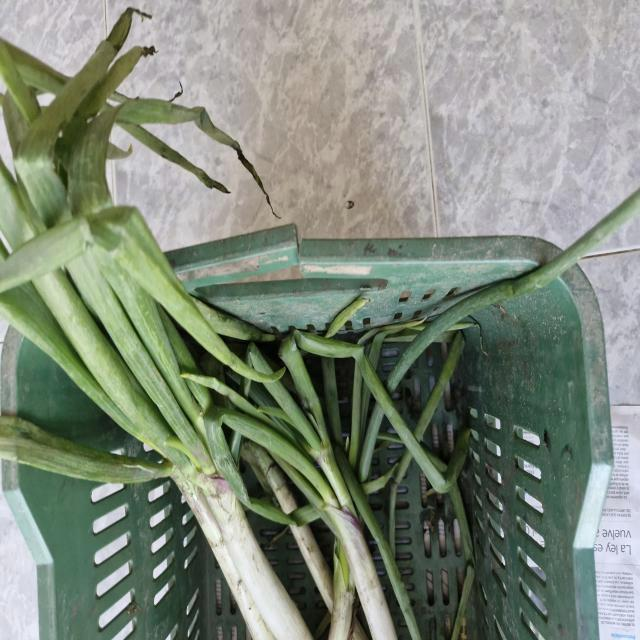green_onion: (0, 91, 312, 640), (220, 340, 410, 640)
